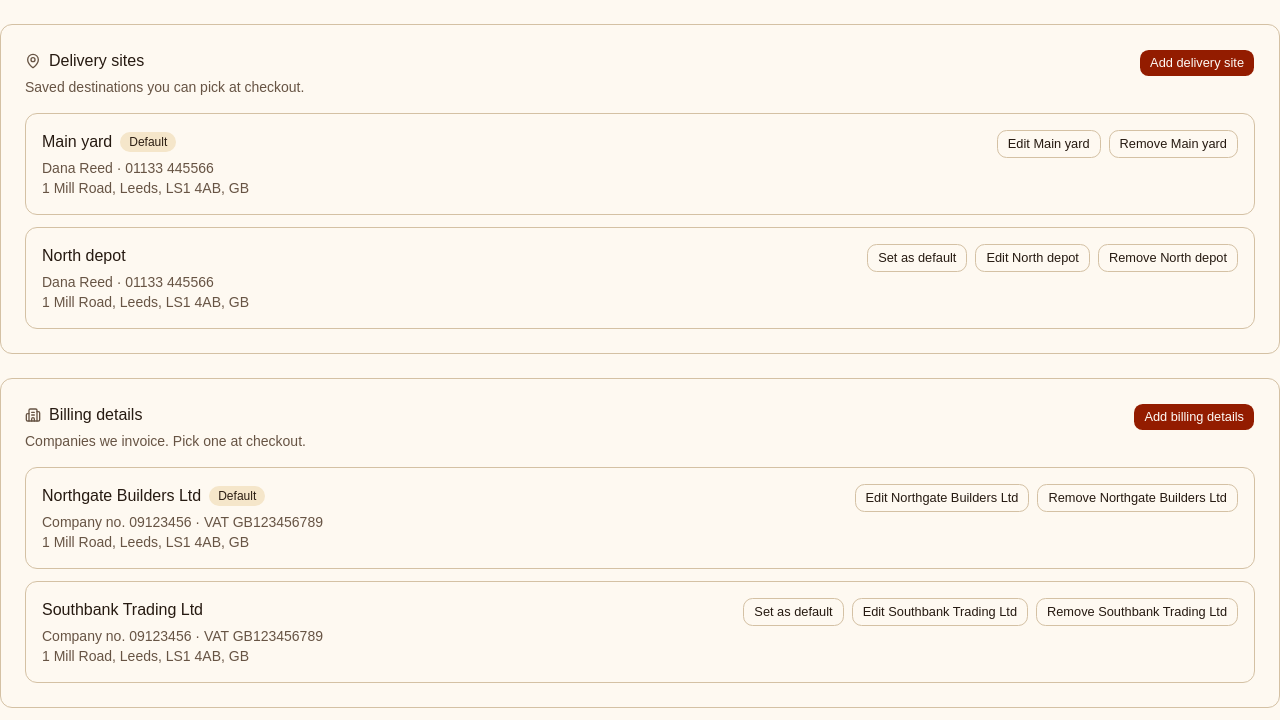
it: BillingEntitiesSection › gives every field in the create form an accessible label
Click the button "Add billing details": [1194, 417] box [1133,403,1255,431]
(page scrolled)
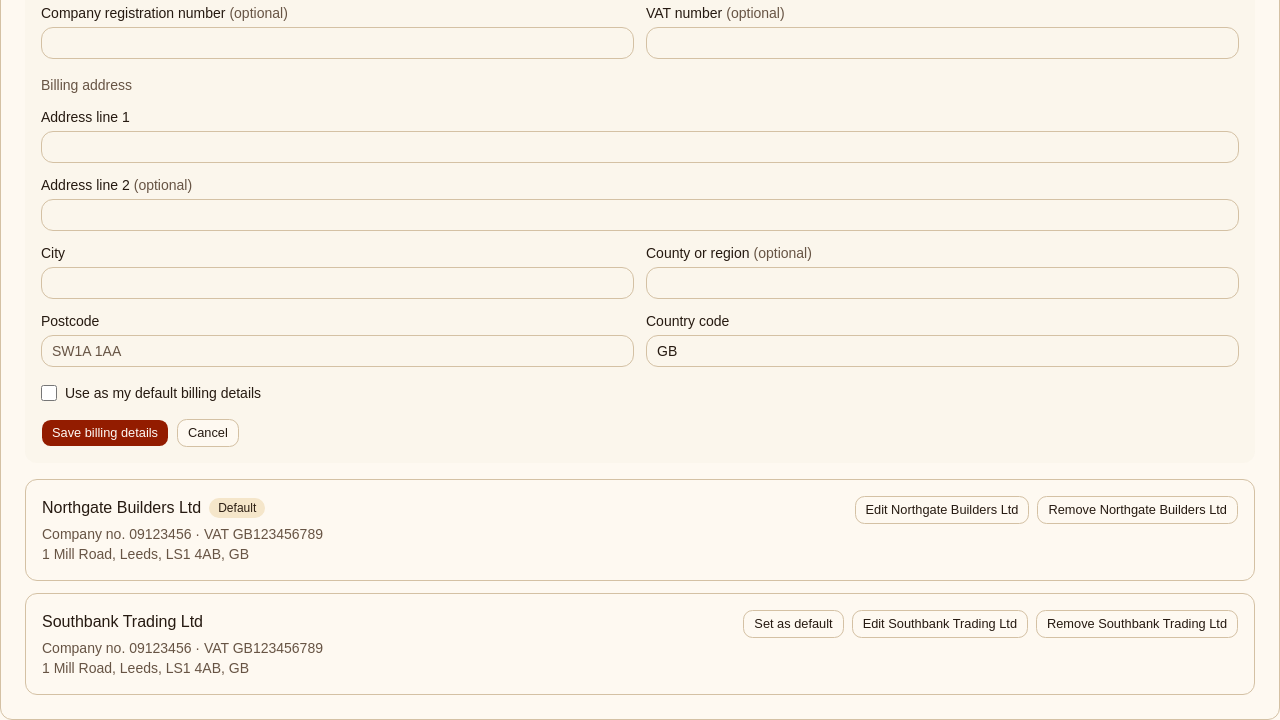
Expected: the checkbox labelled "Use as my default billing details" is shown, [41,385,57,401]
